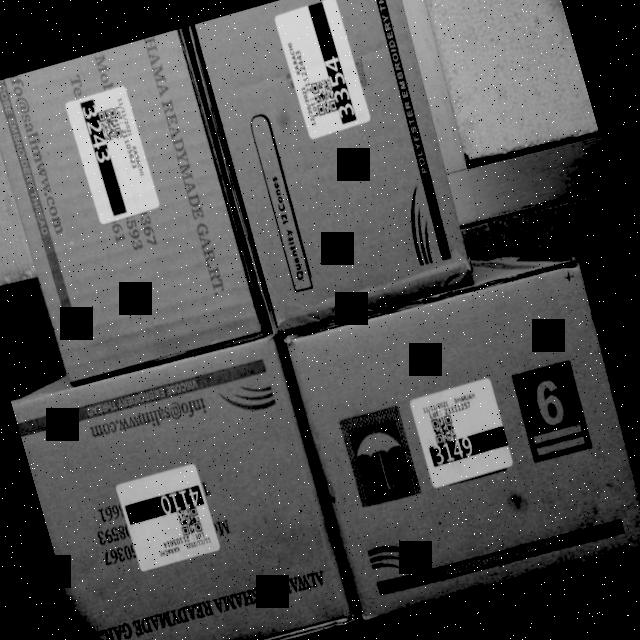box: (279, 248, 640, 636), (13, 333, 364, 640), (186, 0, 480, 339), (0, 28, 263, 386)
